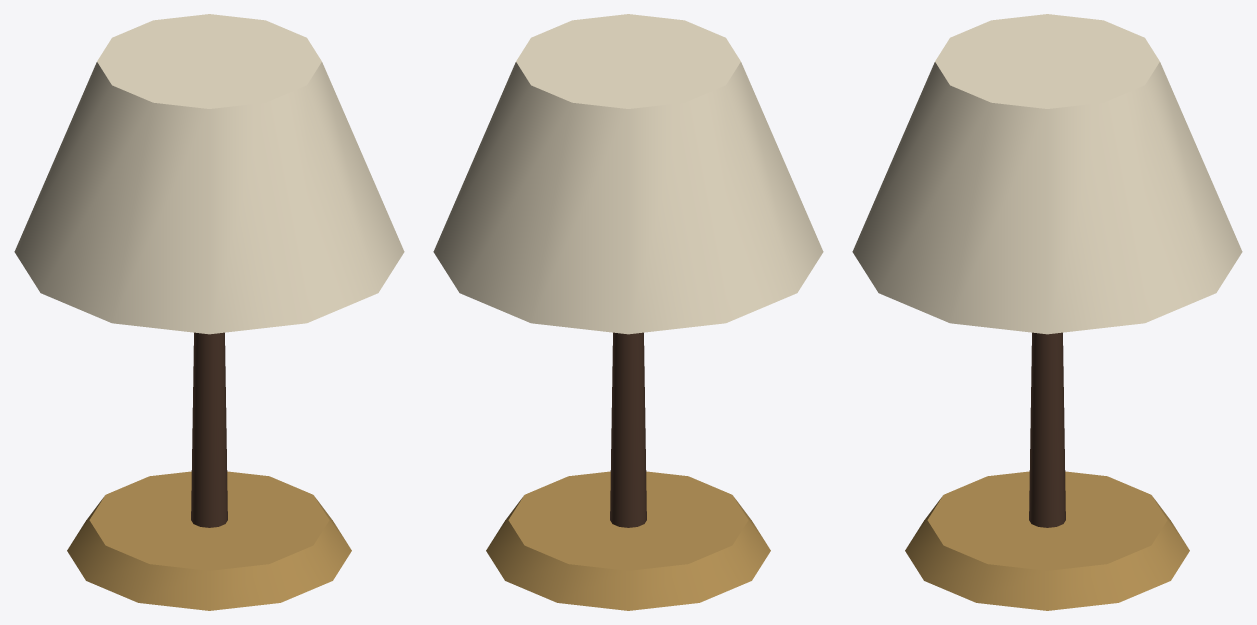
Rendered from lamp.glb.
3 renders of one model, left to right at view 1: azimuth 30°, elevation 25°; view 2: azimuth 150°, elevation 25°; view 3: azimuth 270°, elevation 25°, orthographic.
Parts seen in each view (by area): view 1: Shade, Base, Stem; view 2: Shade, Base, Stem; view 3: Shade, Base, Stem.
Boxes of the visible parts, box(x1,y1,x2,y2) form: Shade: box(14, 14, 404, 334); Base: box(67, 471, 351, 610); Stem: box(191, 332, 227, 527); Shade: box(433, 14, 823, 334); Base: box(486, 471, 770, 610); Stem: box(610, 332, 646, 527); Shade: box(852, 14, 1242, 334); Base: box(905, 471, 1189, 610); Stem: box(1029, 332, 1065, 527).
Bounding box in the file's own units: 0.52 × 0.7195 × 0.52.
